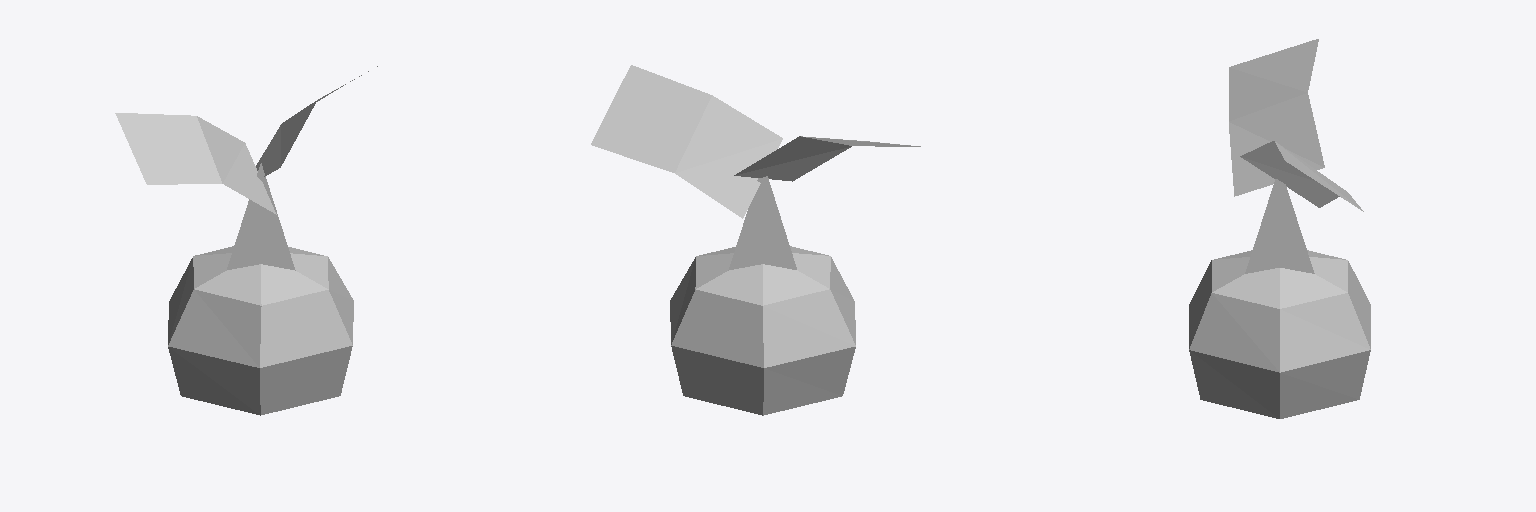
File: Strong Seed.obj
3 views of the same model, side by side, from view 1: azimuth 30°, elevation 25°; view 2: azimuth 150°, elevation 25°; view 3: azimuth 270°, elevation 25° (orthographic).
Parts seen in each view (by area): view 1: Mesh_0122; view 2: Mesh_0122; view 3: Mesh_0122.
Boxes of the visible parts, x1,y1,x2,y2 form: Mesh_0122: [115, 66, 377, 415]; Mesh_0122: [591, 65, 920, 415]; Mesh_0122: [1189, 39, 1370, 418].
Size of the model in its own units: 1.34 by 1.52 by 0.7812.